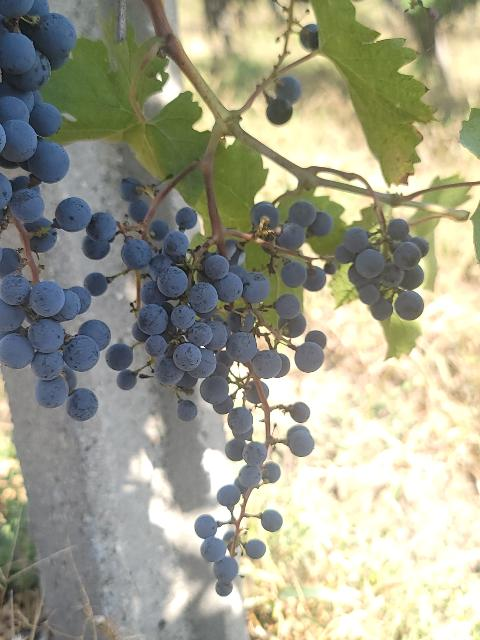grapes: (121, 208, 314, 512), (331, 219, 429, 320)
